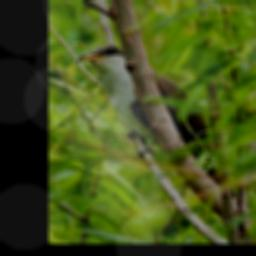Cuckoo: (70, 43, 247, 198)
